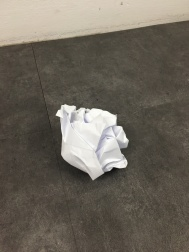paper_brown: (48, 96, 146, 186)
